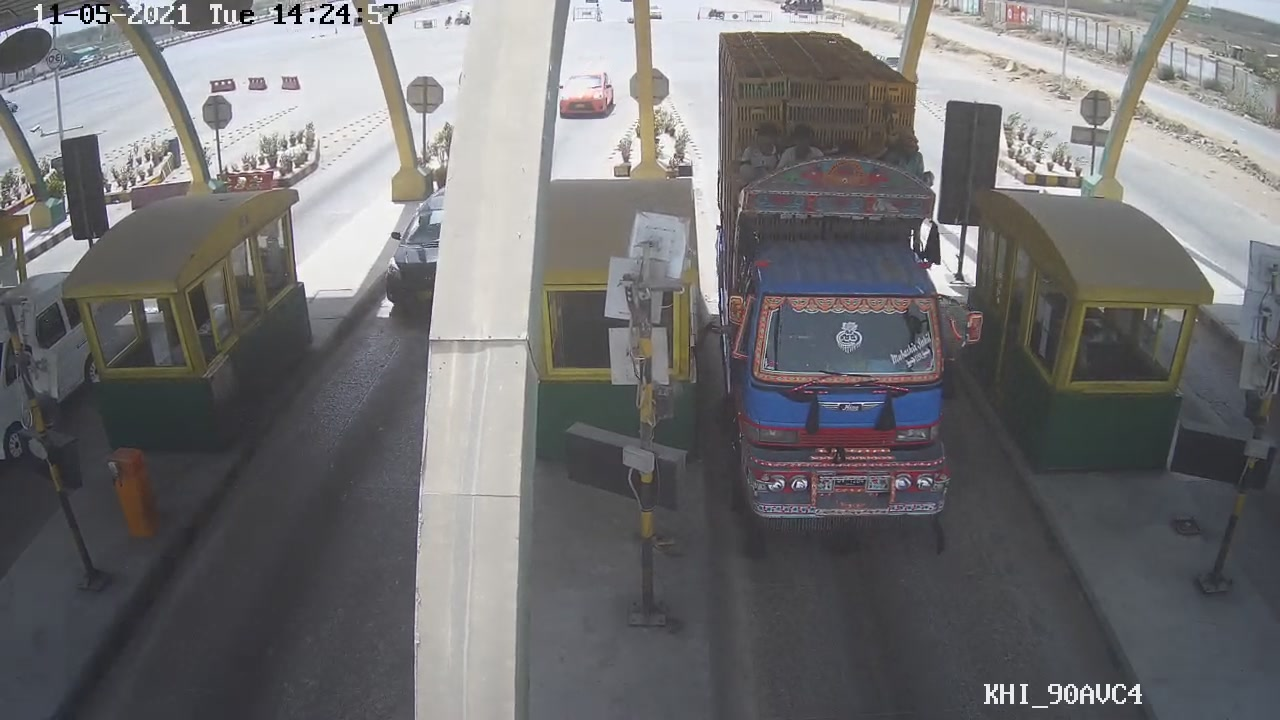F5: (708, 38, 974, 569)
